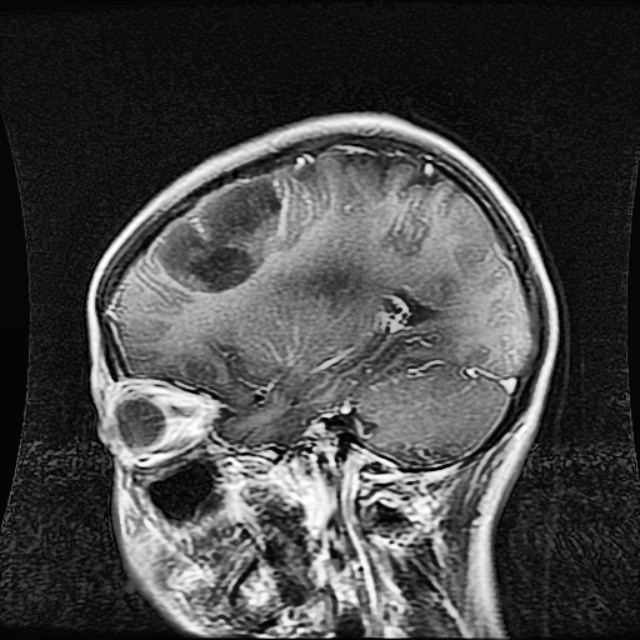Meningioma: (155, 177, 282, 293)
